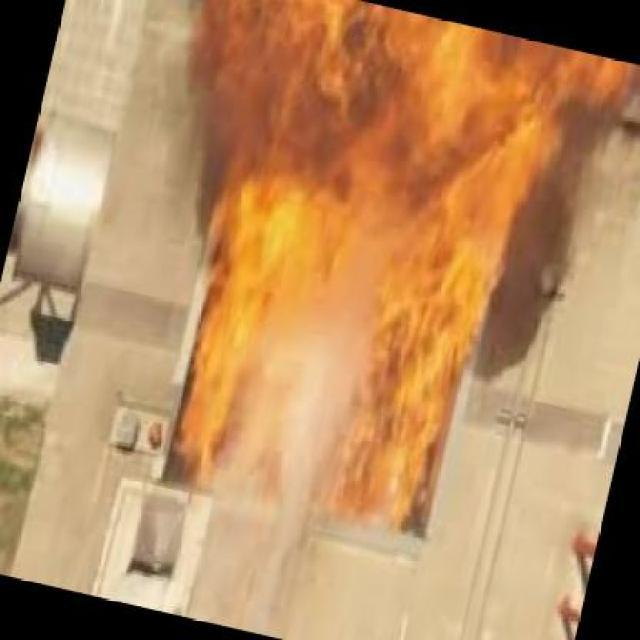Fire: (160, 0, 614, 511)
